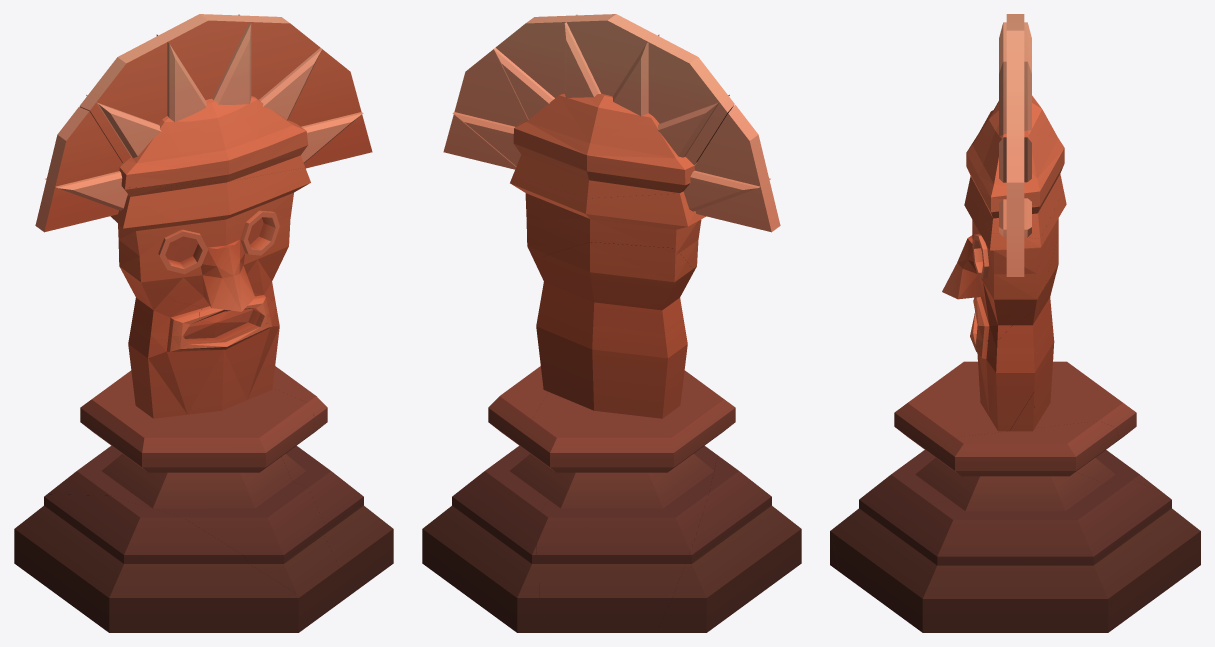
Rendered from MonolitoMuiscaFracture.fbx.
3 views of the same model, side by side, from view 1: azimuth 30°, elevation 25°; view 2: azimuth 150°, elevation 25°; view 3: azimuth 270°, elevation 25° (orthographic). The views are drawn at different scales.
Visible parts, largest first — view 1: MonolitoMuisca.001_cell.006, MonolitoMuisca.001_cell.013, MonolitoMuisca.001_cell, MonolitoMuisca.001_cell.004, MonolitoMuisca.001_cell.011, MonolitoMuisca.001_cell.002, MonolitoMuisca.001_cell.015; view 2: MonolitoMuisca.001_cell.006, MonolitoMuisca.001_cell, MonolitoMuisca.001_cell.002, MonolitoMuisca.001_cell.011, MonolitoMuisca.001_cell.013, MonolitoMuisca.001_cell.004, MonolitoMuisca.001_cell.015; view 3: MonolitoMuisca.001_cell.002, MonolitoMuisca.001_cell.006, MonolitoMuisca.001_cell.004, MonolitoMuisca.001_cell, MonolitoMuisca.001_cell.011.
Boxes of the visible parts, left/top/right/bottom form: MonolitoMuisca.001_cell.006: left=47, top=233, right=339, bottom=625; MonolitoMuisca.001_cell.013: left=14, top=494, right=307, bottom=632; MonolitoMuisca.001_cell: left=79, top=14, right=372, bottom=168; MonolitoMuisca.001_cell.004: left=110, top=167, right=310, bottom=323; MonolitoMuisca.001_cell.011: left=119, top=96, right=308, bottom=187; MonolitoMuisca.001_cell.002: left=272, top=366, right=393, bottom=605; MonolitoMuisca.001_cell.015: left=35, top=106, right=127, bottom=232; MonolitoMuisca.001_cell.006: left=529, top=242, right=735, bottom=632; MonolitoMuisca.001_cell: left=443, top=14, right=734, bottom=169; MonolitoMuisca.001_cell.002: left=422, top=348, right=551, bottom=632; MonolitoMuisca.001_cell.011: left=513, top=93, right=696, bottom=198; MonolitoMuisca.001_cell.013: left=657, top=455, right=801, bottom=632; MonolitoMuisca.001_cell.004: left=510, top=176, right=705, bottom=272; MonolitoMuisca.001_cell.015: left=683, top=105, right=780, bottom=232; MonolitoMuisca.001_cell.002: left=865, top=392, right=1200, bottom=632; MonolitoMuisca.001_cell.006: left=831, top=235, right=1161, bottom=590; MonolitoMuisca.001_cell.004: left=942, top=176, right=1066, bottom=346; MonolitoMuisca.001_cell: left=999, top=14, right=1031, bottom=276; MonolitoMuisca.001_cell.011: left=966, top=95, right=1064, bottom=238.
Size of the model in its own units: 1000 by 1590 by 1000.
